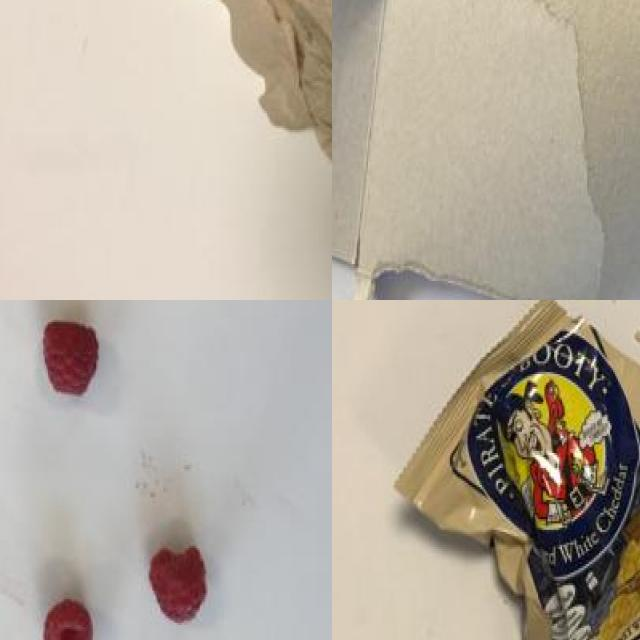compost: (35, 328, 215, 640)
paper: (332, 0, 640, 300)
trash: (396, 300, 640, 640), (138, 0, 332, 230)
